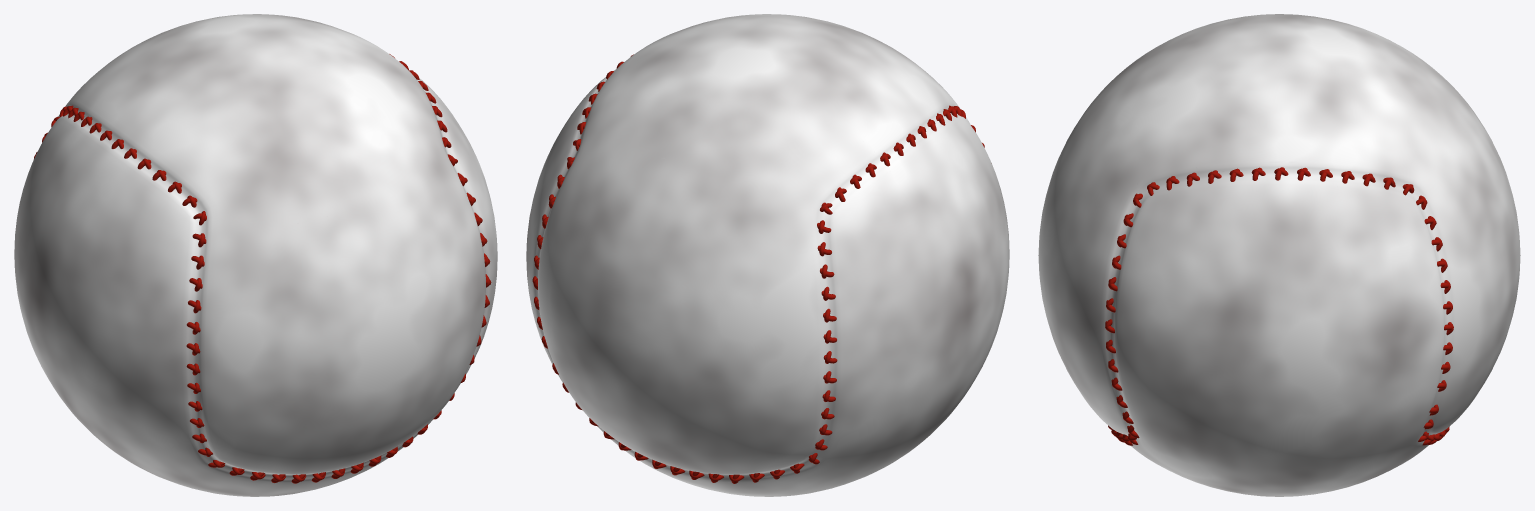
File: Baseball.obj
3 renders of one model, left to right at view 1: azimuth 30°, elevation 25°; view 2: azimuth 150°, elevation 25°; view 3: azimuth 270°, elevation 25°, orthographic.
Visible parts, largest first — view 1: Cube, object 2; view 2: Cube, object 2; view 3: Cube, object 2.
Boxes of the visible parts, bbox=[...] form: Cube: bbox=[14, 14, 497, 496]; object 2: bbox=[34, 54, 491, 483]; Cube: bbox=[526, 14, 1009, 496]; object 2: bbox=[532, 54, 984, 483]; Cube: bbox=[1038, 14, 1520, 496]; object 2: bbox=[1105, 167, 1453, 445].
Size of the model in its own units: 2.55 by 2.55 by 2.55.
Materials: 2 (1 with a texture image).
